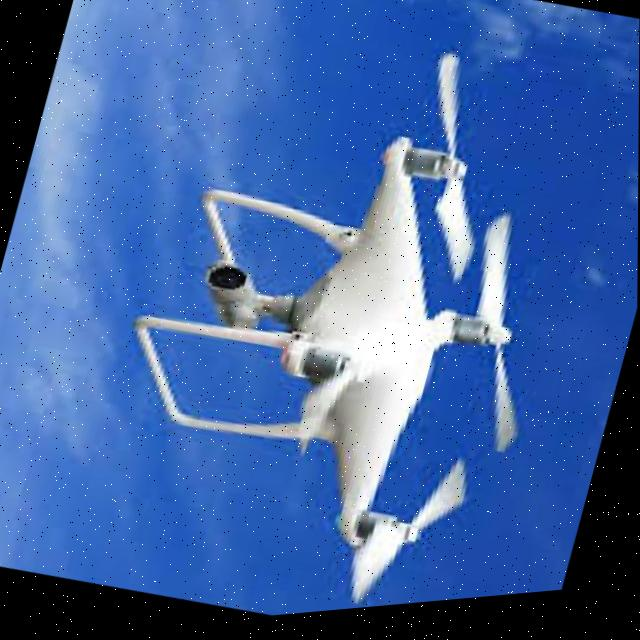drones: (70, 0, 637, 635)
